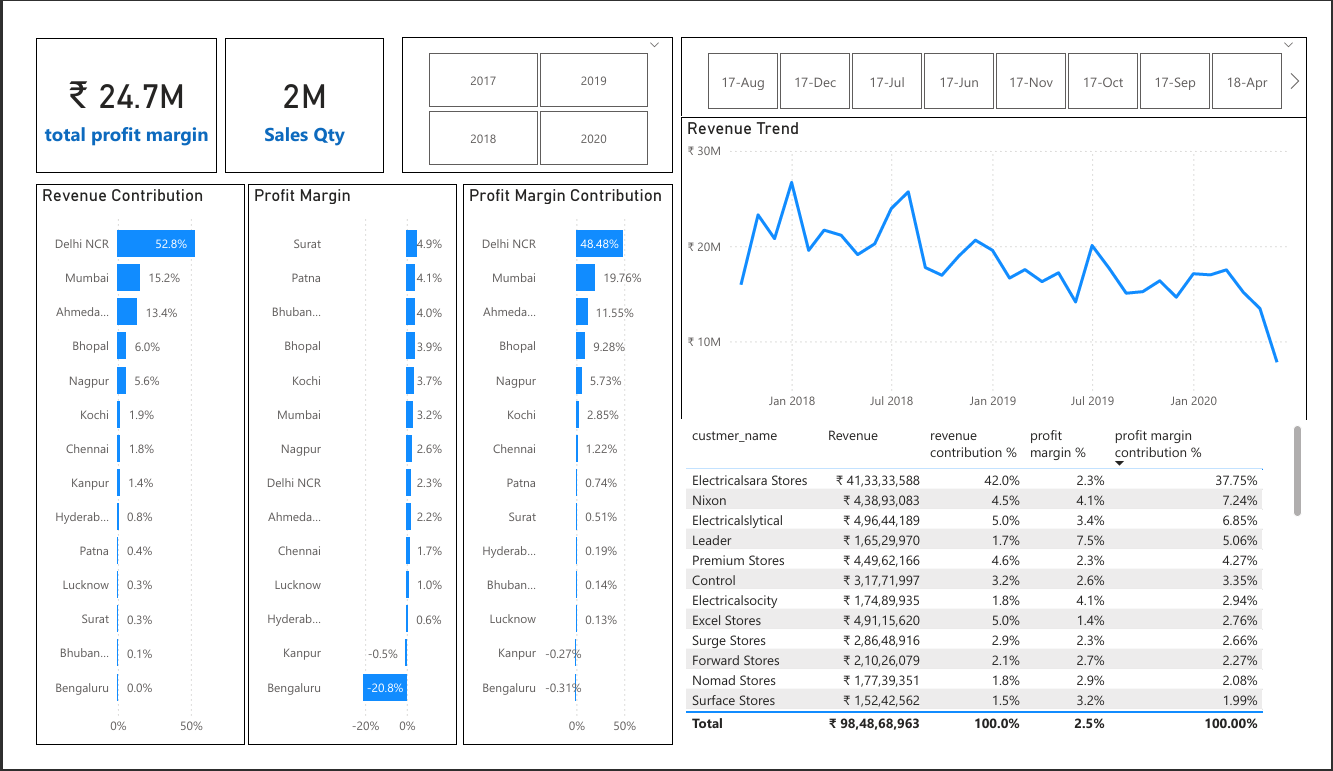

Layout of this report page (visuals, bound fields, positions):
{"tool":"powerbi","page":{"name":"Profit Analysis","canvas":[1280,720],"ordinal":1},"visuals":[{"type":"card","fields":{"Values":["BaseMeasures.profit margin"]},"box":[8.6,12.9,181.1,135.4],"z":0},{"type":"barChart","title":"Profit Margin Contribution ","fields":{"Category":["sales markets.markets_name"],"Y":["BaseMeasures.profit margin contribution %"]},"box":[436.4,158.7,209.6,561.5],"z":1000},{"type":"slicer","fields":{"Values":["sales date.year"]},"box":[375.2,12.1,270.8,136.3],"z":2000},{"type":"slicer","fields":{"Values":["sales date.date_yy_mmm"]},"box":[653.8,12.1,626.2,80.2],"z":3000},{"type":"lineChart","title":"Revenue Trend ","fields":{"Category":["sales date.cy_date.Variation.Date Hierarchy.Year","sales date.cy_date.Variation.Date Hierarchy.Quarter","sales date.cy_date.Variation.Date Hierarchy.Month","sales date.cy_date.Variation.Date Hierarchy.Day"],"Y":["BaseMeasures.Revenue"]},"box":[653.8,92.3,626.2,302.7],"z":4000},{"type":"barChart","title":"Profit Margin","fields":{"Category":["sales markets.markets_name"],"Y":["BaseMeasures.profit margin %"]},"box":[220.8,158.7,209.6,561.5],"z":5000},{"type":"barChart","title":"Revenue Contribution ","fields":{"Category":["sales markets.markets_name"],"Y":["BaseMeasures.revenue contribution"]},"box":[8.6,158.7,209.6,561.5],"z":6000},{"type":"card","fields":{"Values":["BaseMeasures.sales Qty"]},"box":[198.4,12.9,158.7,135.4],"z":7000},{"type":"tableEx","fields":{"Values":["sales customers.custmer_name","BaseMeasures.Revenue","BaseMeasures.revenue contribution %","BaseMeasures.profit margin %","BaseMeasures.profit margin contribution %"]},"box":[653.8,395,626.2,316.5],"z":8000}]}

Visuals, with their boxes in screenshot pixels (x1, y1, x2, y2), scaled from the page's 1280x720 canvas onto the 1333x771 screenshot:
card - BaseMeasures.profit margin: locate(9, 14, 198, 159)
"Profit Margin Contribution " barChart: locate(454, 170, 673, 770)
slicer - sales date.year: locate(391, 13, 673, 159)
slicer - sales date.date_yy_mmm: locate(681, 13, 1332, 99)
"Revenue Trend " lineChart: locate(681, 99, 1332, 423)
"Profit Margin" barChart: locate(230, 170, 448, 770)
"Revenue Contribution " barChart: locate(9, 170, 227, 770)
card - BaseMeasures.sales Qty: locate(207, 14, 372, 159)
tableEx - sales customers.custmer_name x BaseMeasures.Revenue: locate(681, 423, 1332, 762)
